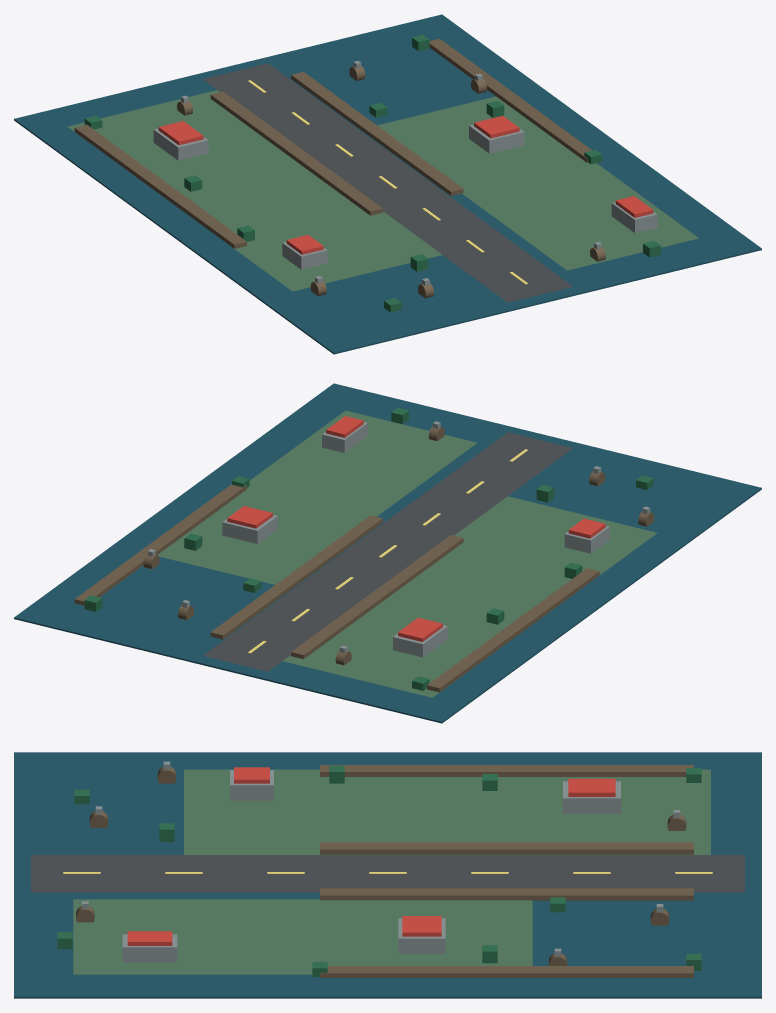
The model's file is air_arena_tile.glb.
3 renders of one model, top to bottom at view 1: azimuth 30°, elevation 25°; view 2: azimuth 150°, elevation 25°; view 3: azimuth 270°, elevation 25°, orthographic. The views are drawn at different scales.
Visible parts, largest first — view 1: air_arena_tile; view 2: air_arena_tile; view 3: air_arena_tile.
Boxes of the visible parts, bbox=[...] form: air_arena_tile: bbox=[14, 14, 761, 354]; air_arena_tile: bbox=[14, 383, 761, 723]; air_arena_tile: bbox=[14, 752, 761, 998].
Size of the model in its own units: 34 by 1.59 by 44.
